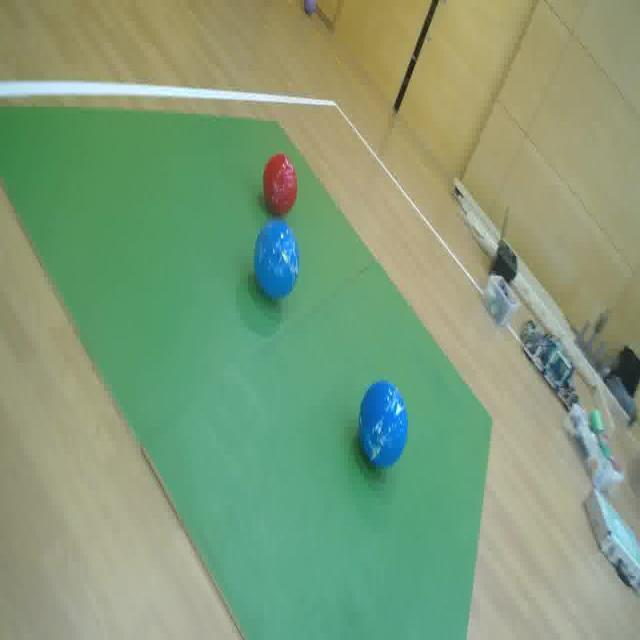blue_ball: (357, 378, 410, 470)
purple_ball: (253, 217, 302, 305)
red_ball: (260, 153, 299, 218)
